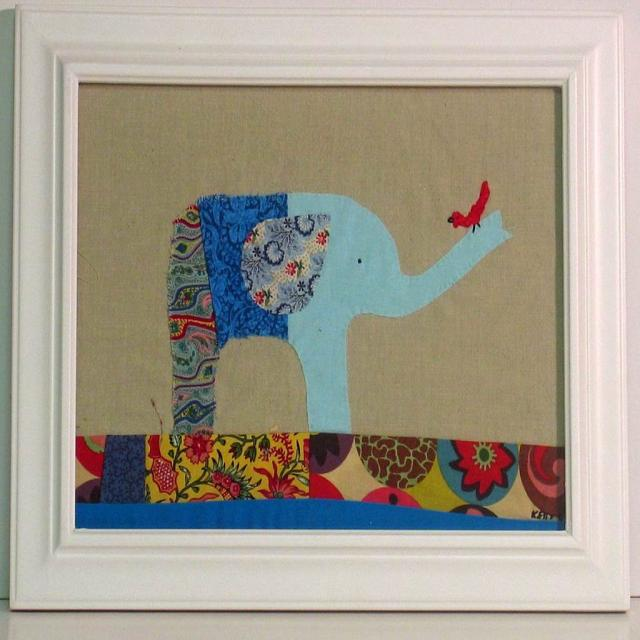elephant: (165, 190, 514, 436)
